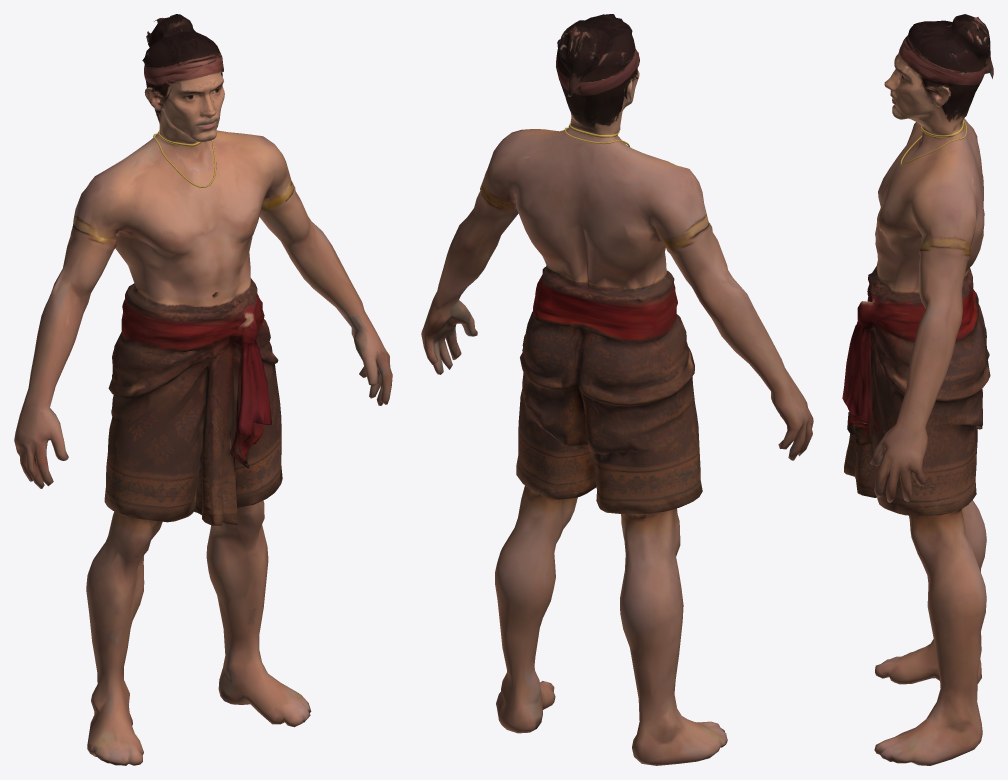
The model's file is wijaya-utuh.glb.
The picture shows the model from 3 angles, left to right: view 1: azimuth 30°, elevation 25°; view 2: azimuth 150°, elevation 25°; view 3: azimuth 270°, elevation 25°; orthographic projection. The views are drawn at different scales.
Parts seen in each view (by area): view 1: wijaya-ulang; view 2: wijaya-ulang; view 3: wijaya-ulang.
Boxes of the visible parts, <box> form: wijaya-ulang: <box>14,14,392,765</box>; wijaya-ulang: <box>421,14,813,765</box>; wijaya-ulang: <box>842,14,993,765</box>.
Bounding box in the file's own units: 0.9349 × 1.7 × 0.3317.
Materials: 2 (1 with a texture image).
